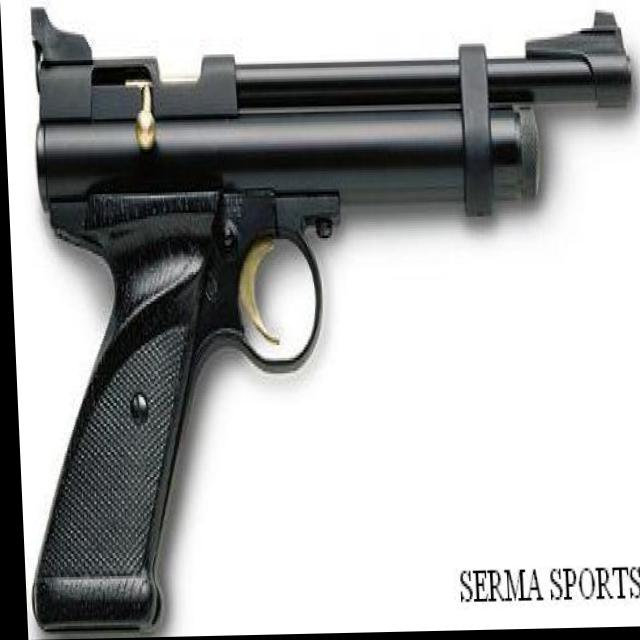handgun: (4, 0, 640, 627)
